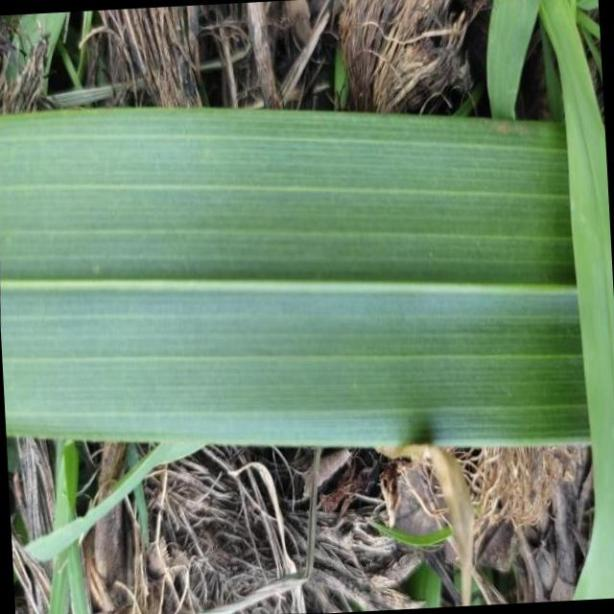Healthy: (0, 105, 614, 450)
